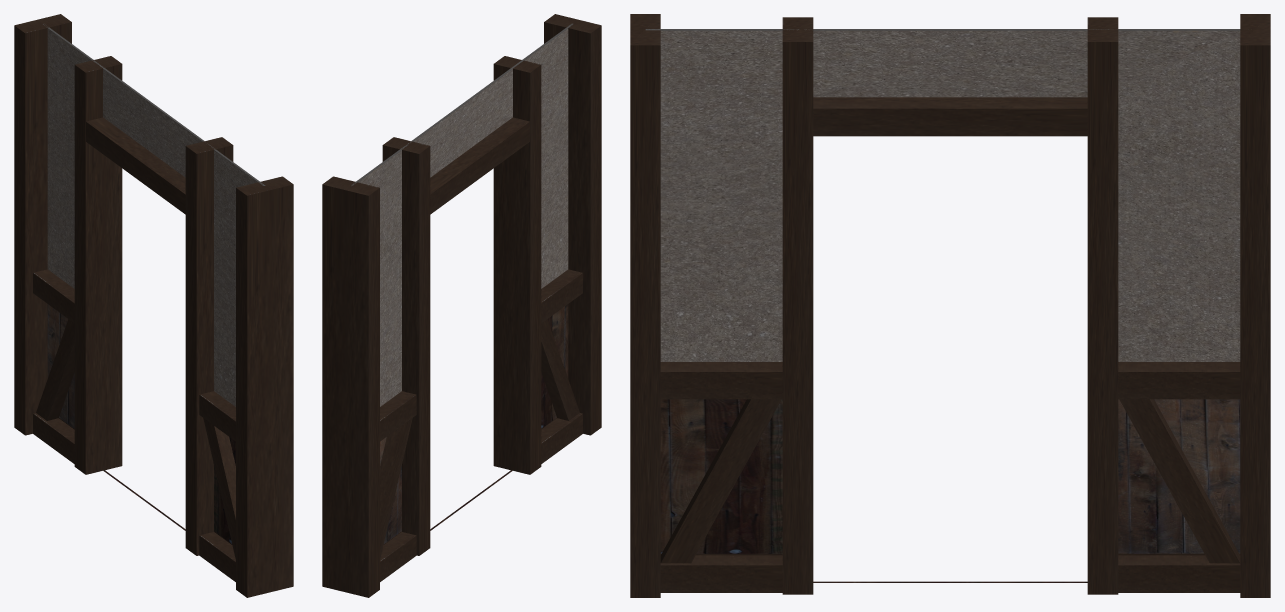
File: OutdoorArchitecture_BasicWall01_Door01_NoDoor_BothEdges_BShortt.fbx
3 renders of one model, left to right at view 1: azimuth 30°, elevation 25°; view 2: azimuth 150°, elevation 25°; view 3: azimuth 270°, elevation 25°, orthographic. The views are drawn at different scales.
Parts seen in each view (by area): view 1: OutdoorArchitecture_BasicWall01_Door01_NoDoor_BothEdges_BSho; view 2: OutdoorArchitecture_BasicWall01_Door01_NoDoor_BothEdges_BSho; view 3: OutdoorArchitecture_BasicWall01_Door01_NoDoor_BothEdges_BSho.
Boxes of the visible parts, bbox=[...] form: OutdoorArchitecture_BasicWall01_Door01_NoDoor_BothEdges_BSho: bbox=[14, 14, 293, 597]; OutdoorArchitecture_BasicWall01_Door01_NoDoor_BothEdges_BSho: bbox=[322, 14, 601, 597]; OutdoorArchitecture_BasicWall01_Door01_NoDoor_BothEdges_BSho: bbox=[630, 14, 1270, 597].
Bounding box in the file's own units: 36.37 × 300 × 315.
